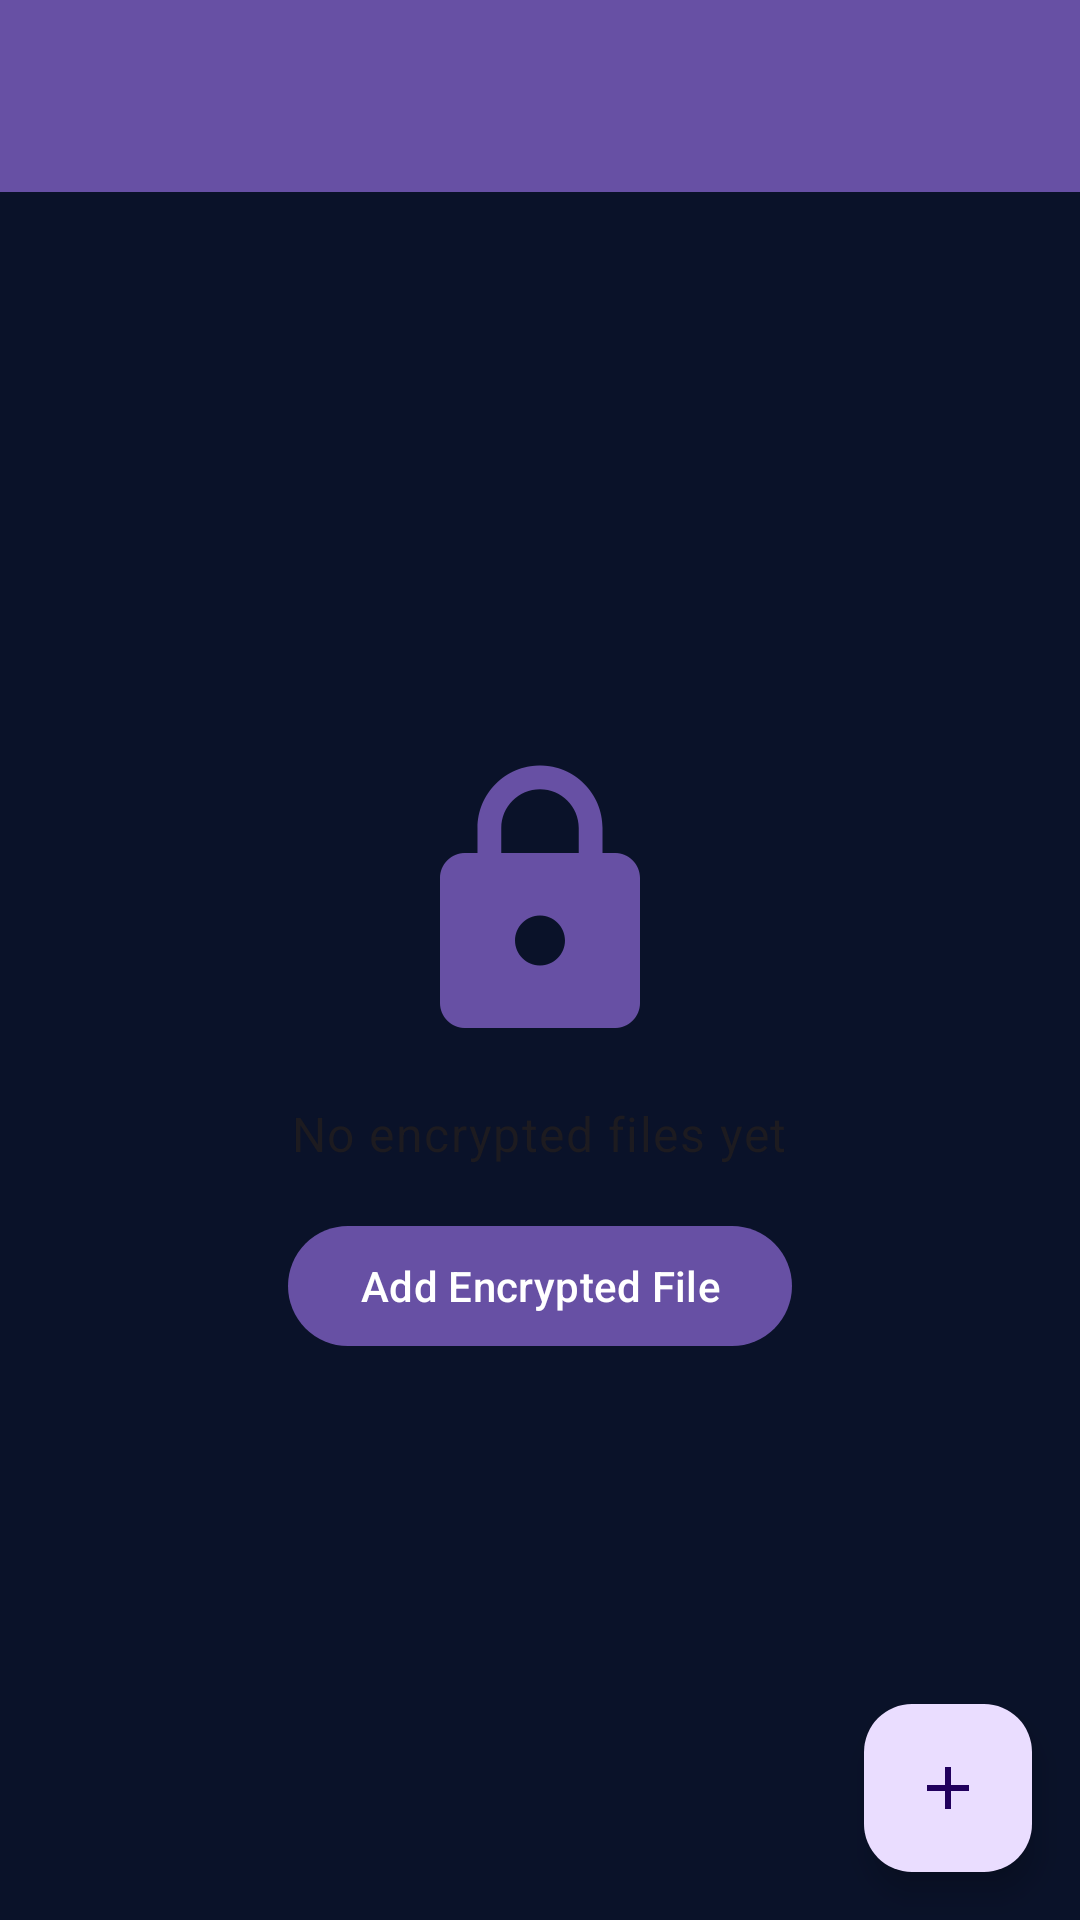

Screen size 1080w x 1920h. Icon name, then its box in pixels as (x1, y1, x2, y2):
Add File: (864, 1704, 1032, 1872)
